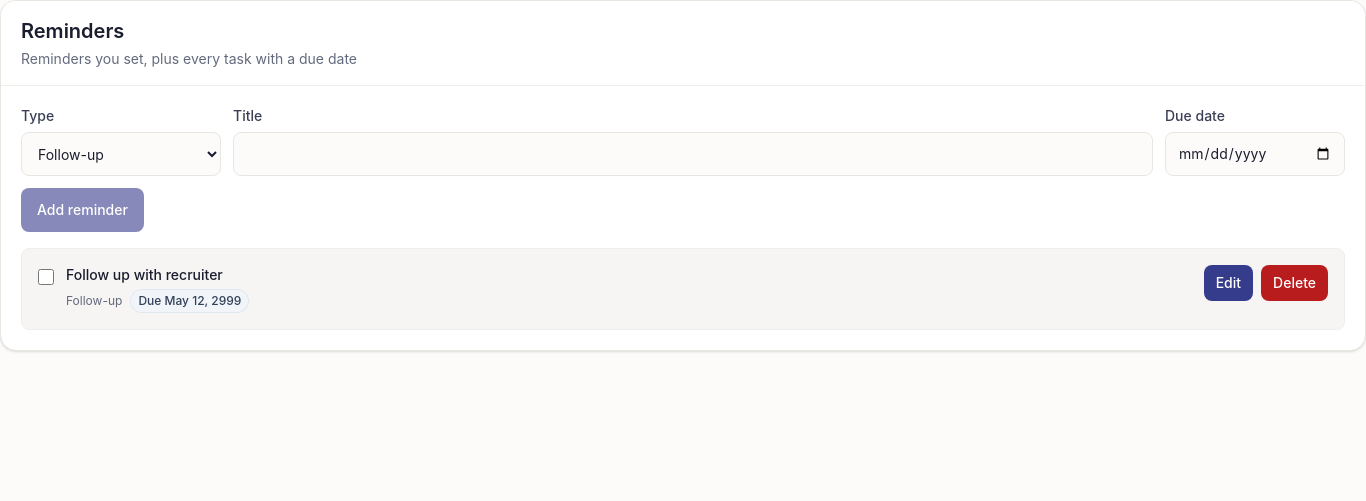
Test: JobDetailRemindersPanel › keeps the edit open with the typed values when saving fails, and cancels back
The image size is (1366, 501).
Click the button with aria-label "Edit reminder Follow up with recruiter". click: (1228, 283)
box: x1=1204 y1=265 x2=1253 y2=301
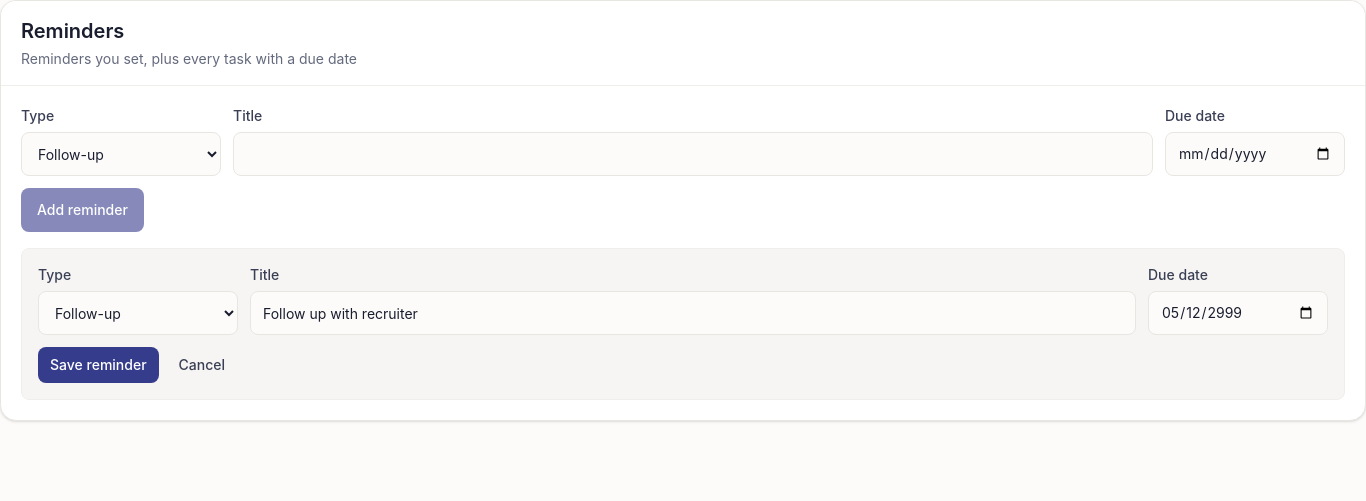
Type " now" into the 2nd field labelled "Title". click: (693, 313)
box: x1=250 y1=291 x2=1136 y2=335
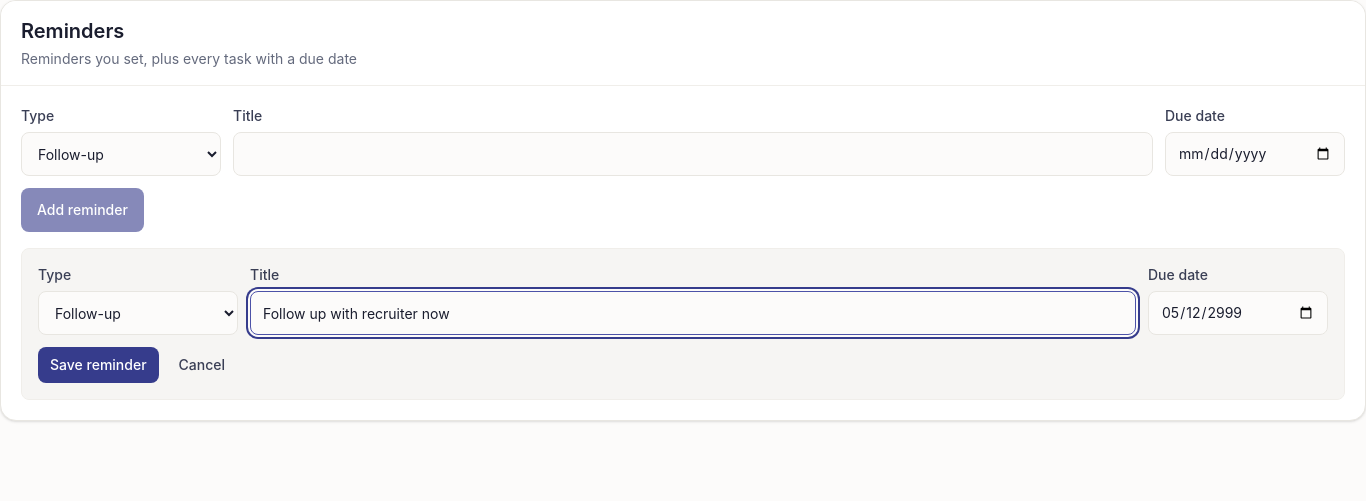
Click the button "Save reminder". click: (98, 365)
box: x1=38 y1=347 x2=159 y2=383
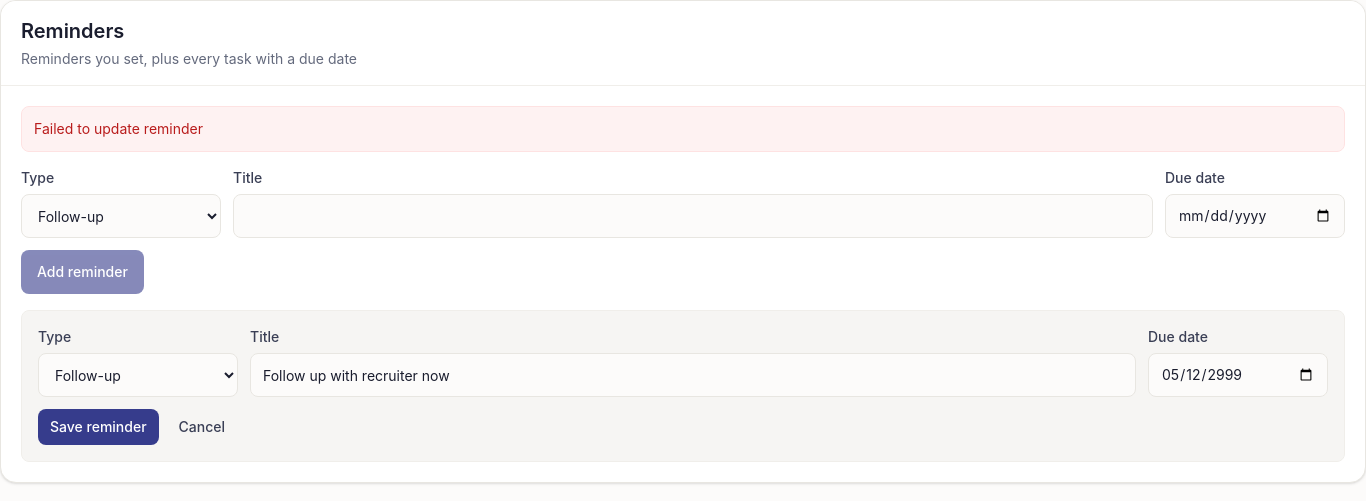
Now the 2nd field labelled "Title" holds "Follow up with recruiter now", box x1=250 y1=353 x2=1136 y2=397
Now the message reads "Failed to update reminder", box x1=34 y1=120 x2=203 y2=137
Click the button "Cancel". click: (202, 427)
box: x1=167 y1=409 x2=237 y2=445
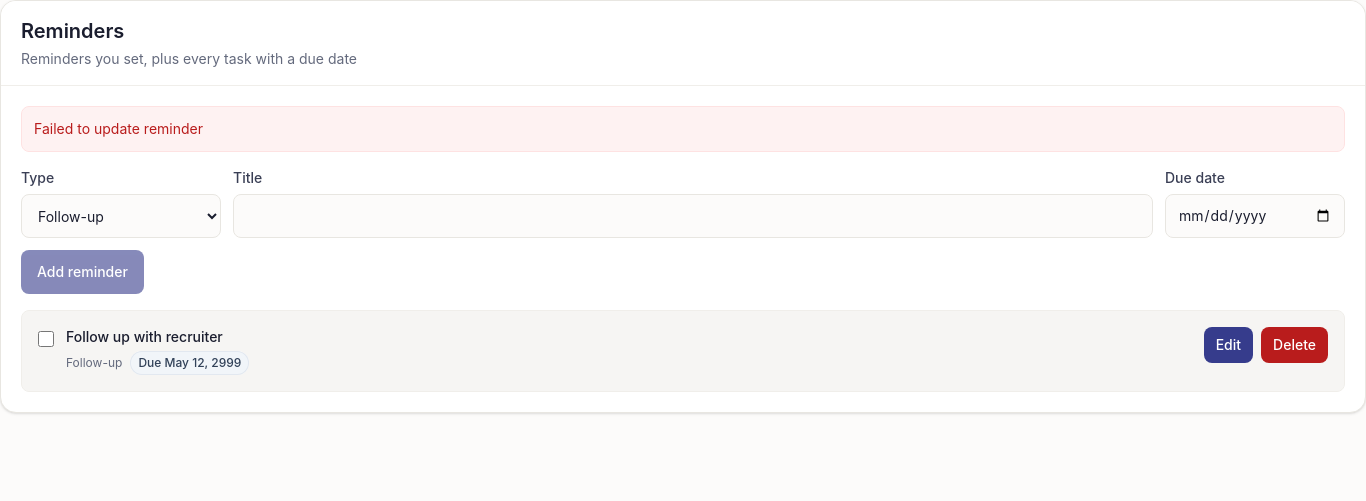
Now the text "Follow up with recruiter" is shown, box x1=66 y1=328 x2=223 y2=345
